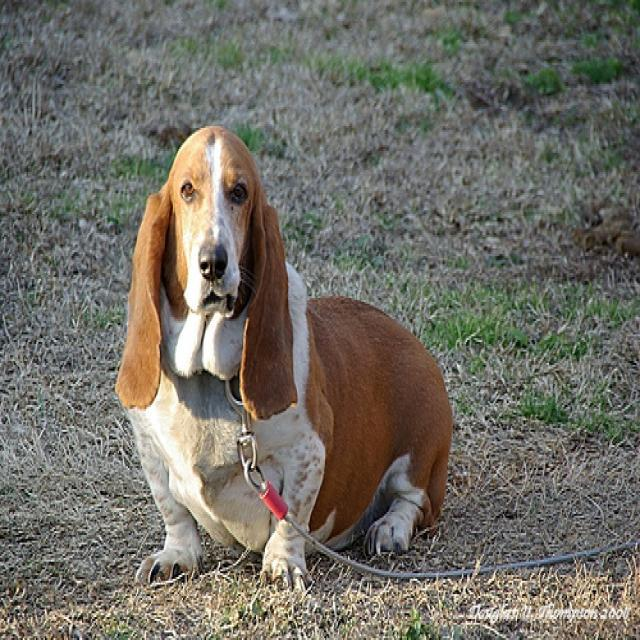dog-basset_hound: (109, 115, 456, 598)
